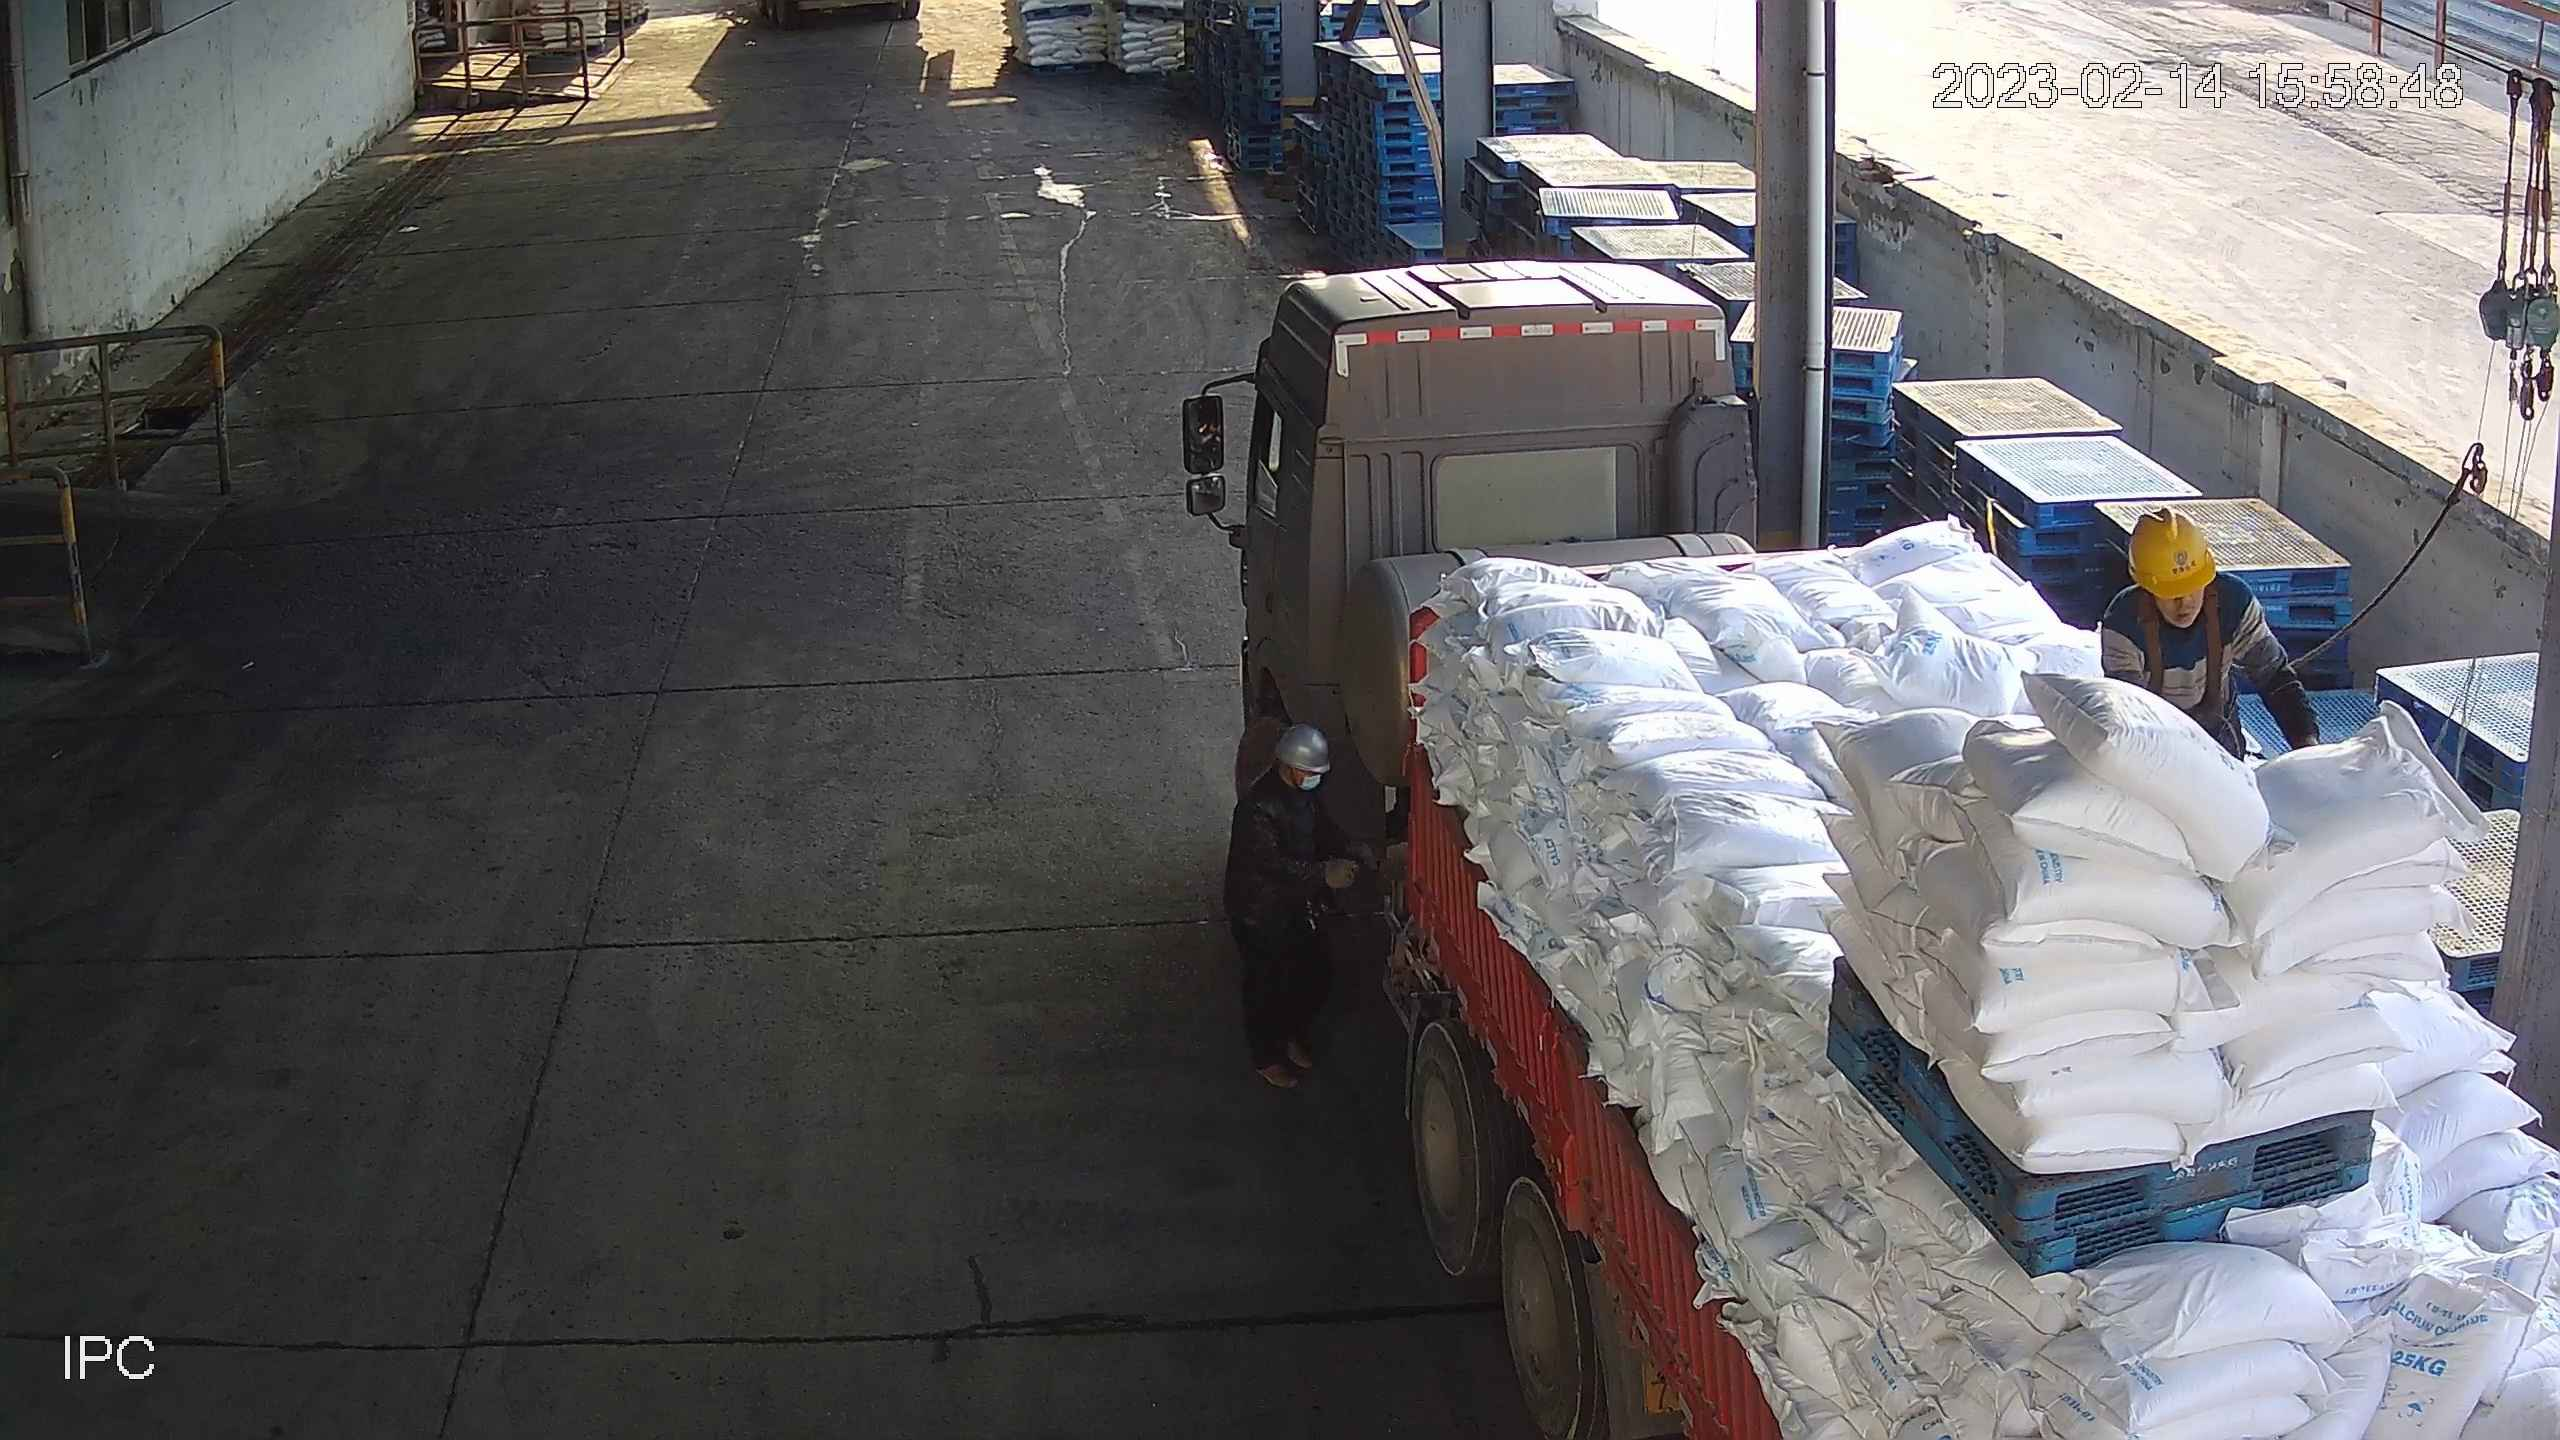belt: (2132, 596, 2303, 716)
head: (2102, 501, 2323, 753), (1226, 723, 1355, 859)
helmet: (2130, 506, 2219, 599), (1273, 725, 1334, 771)
people: (1225, 718, 1379, 1093)
truck: (1176, 254, 2560, 1440)
